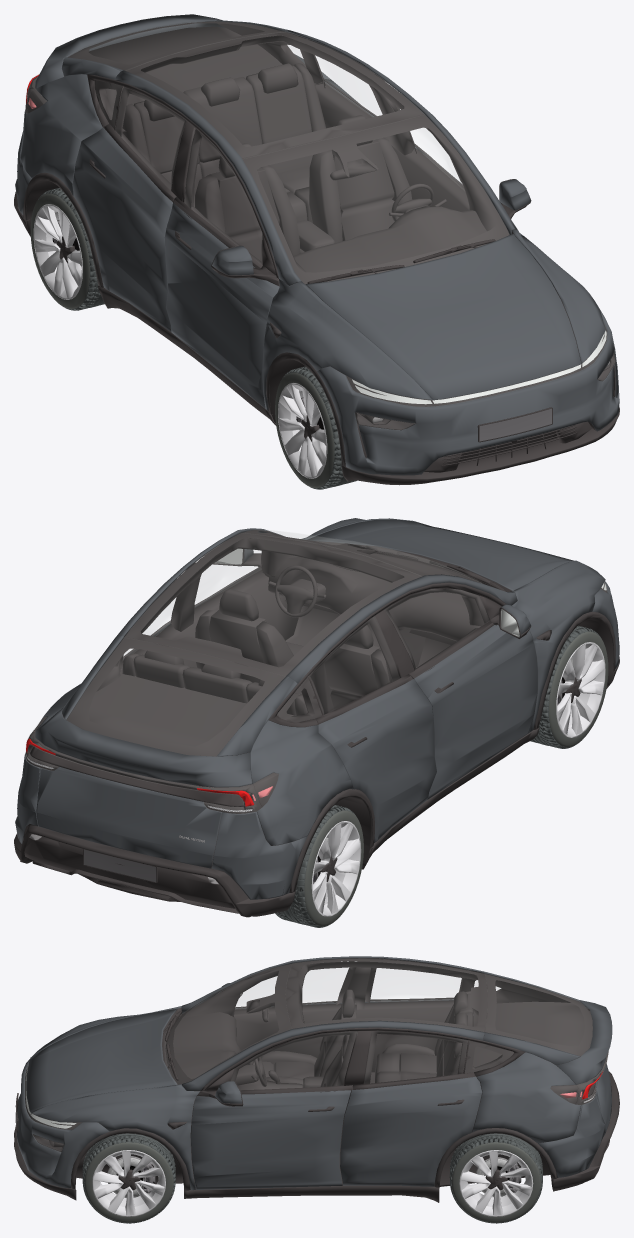
The model's file is tesla-model-y.glb.
The picture shows the model from 3 angles, top to bottom: view 1: azimuth 30°, elevation 25°; view 2: azimuth 150°, elevation 25°; view 3: azimuth 270°, elevation 25°; orthographic projection. The views are drawn at different scales.
Parts seen in each view (by area): view 1: Object_15, Object_9, Object_3, Object_2, Object_4, Object_5; view 2: Object_15, Object_9, Object_3, Object_2, Object_4, Object_5; view 3: Object_15, Object_9, Object_3, Object_2, Object_4, Object_5, Object_10.
Part boxes in pixels (left/top/right/bottom): Object_15: left=15, top=14, right=619, bottom=475; Object_9: left=14, top=21, right=619, bottom=489; Object_3: left=26, top=39, right=614, bottom=458; Object_2: left=26, top=74, right=327, bottom=478; Object_4: left=25, top=31, right=614, bottom=355; Object_5: left=52, top=220, right=606, bottom=430; Object_15: left=15, top=518, right=619, bottom=899; Object_9: left=14, top=533, right=619, bottom=927; Object_3: left=30, top=530, right=613, bottom=869; Object_2: left=26, top=642, right=605, bottom=916; Object_4: left=25, top=530, right=480, bottom=799; Object_5: left=215, top=548, right=606, bottom=884; Object_15: left=16, top=956, right=612, bottom=1190; Object_9: left=14, top=958, right=619, bottom=1223; Object_3: left=25, top=961, right=595, bottom=1194; Object_2: left=92, top=1072, right=602, bottom=1216; Object_4: left=235, top=961, right=608, bottom=1098; Object_5: left=25, top=993, right=521, bottom=1193; Object_10: left=108, top=1158, right=515, bottom=1197.
Bounding box in the file's own units: 2.12 × 1.65 × 4.79.
Materials: 9 (9 with a texture image).
